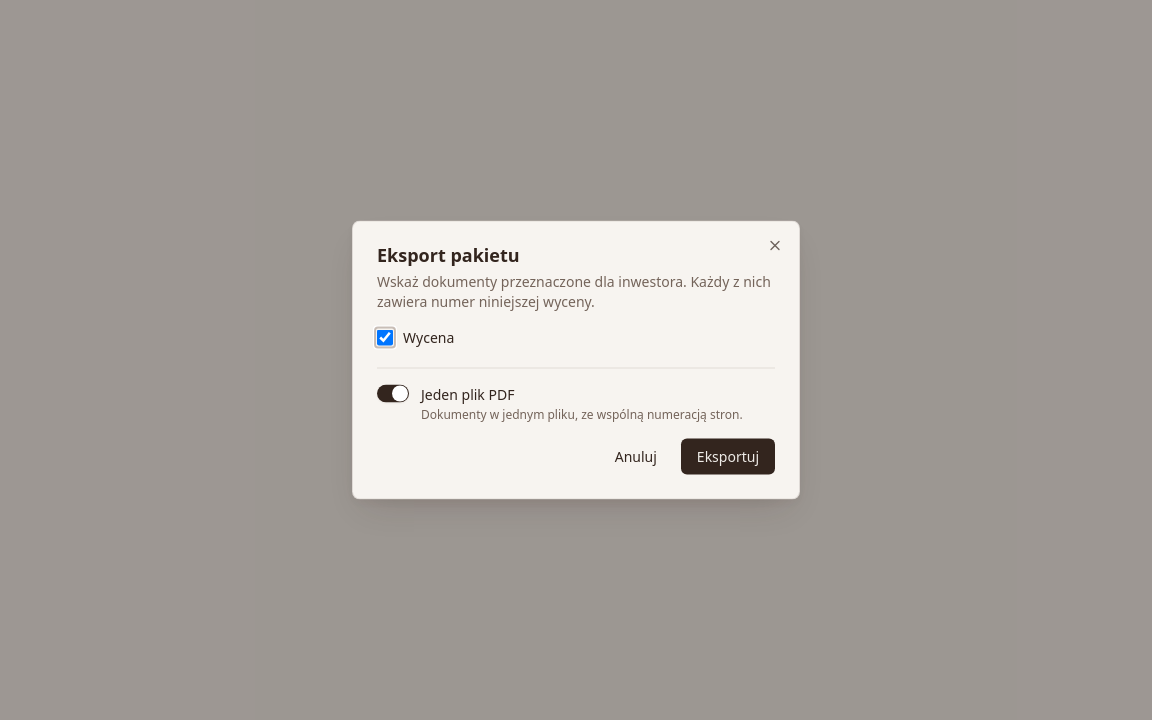
Scenario: ExportPackageDialog — wybór i eksport › bez zaznaczenia nie da się eksportować
Click the checkbox labelled "Wycena". click: (385, 338)
box: x1=377 y1=330 x2=393 y2=346
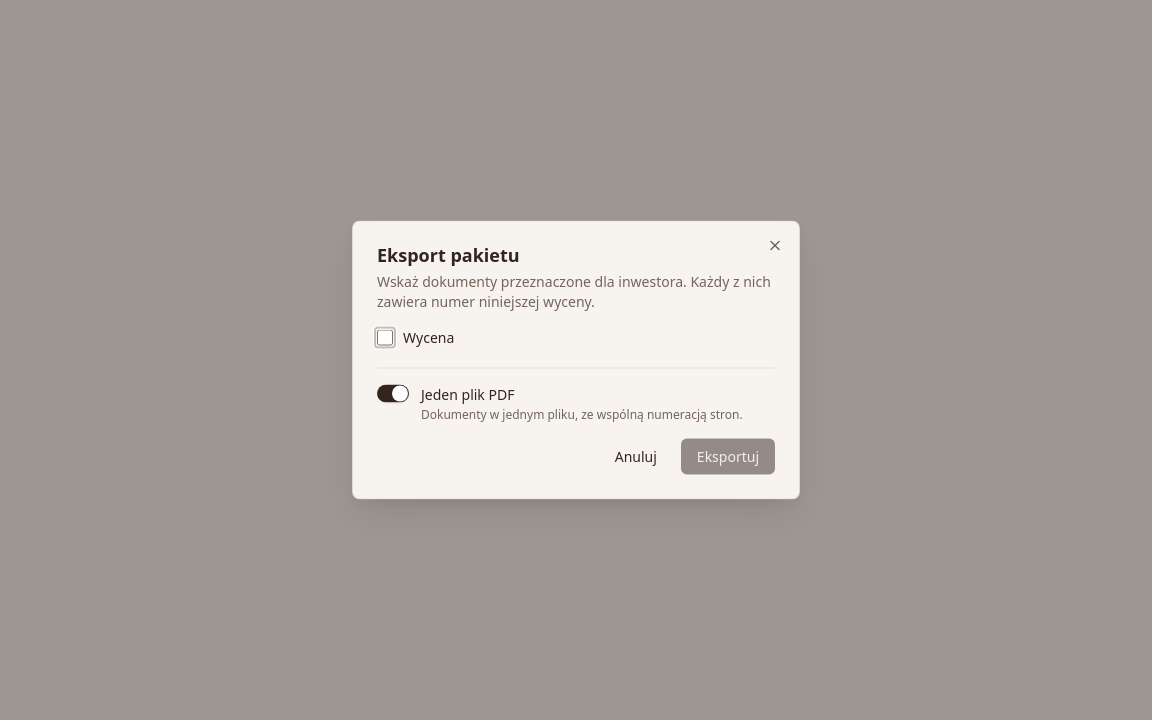
Expected: the button "Eksportuj" is disabled, x1=681 y1=438 x2=775 y2=474
